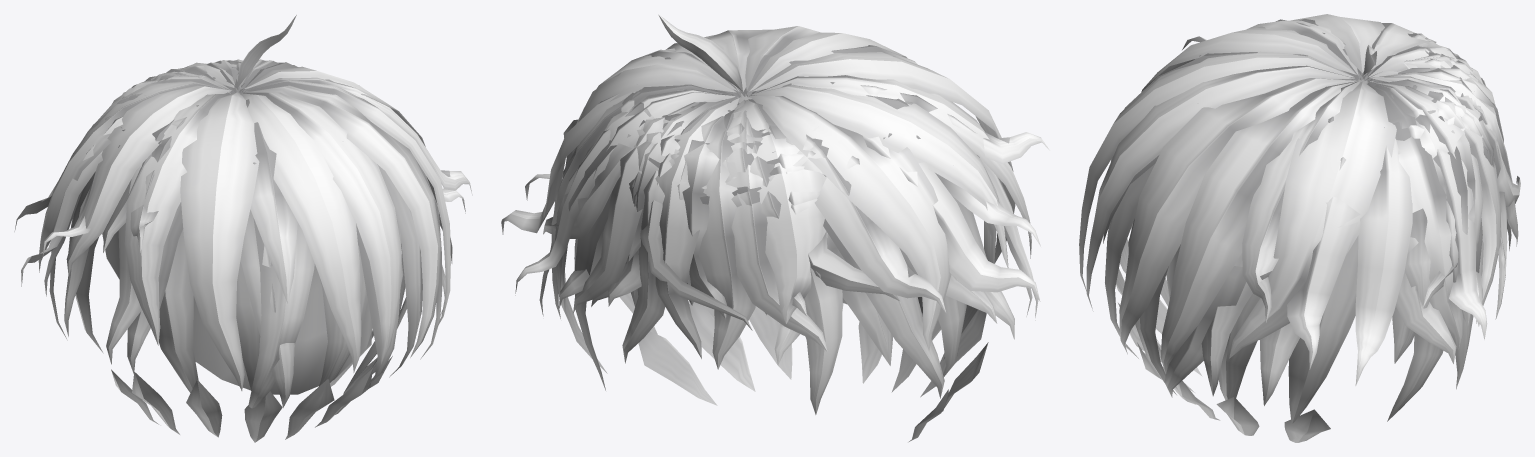
The model's file is messy_hair.obj.
3 views of the same model, side by side, from view 1: azimuth 30°, elevation 25°; view 2: azimuth 150°, elevation 25°; view 3: azimuth 270°, elevation 25° (orthographic). The views are drawn at different scales.
Parts seen in each view (by area): view 1: MessyHair; view 2: MessyHair; view 3: MessyHair.
Part boxes in pixels (<box>): MessyHair: <box>14,15,472,442</box>; MessyHair: <box>501,14,1049,442</box>; MessyHair: <box>1079,14,1520,442</box>.
Bounding box in the file's own units: 2.25 × 1.73 × 1.73.
Materials: 1 (1 with a texture image).
